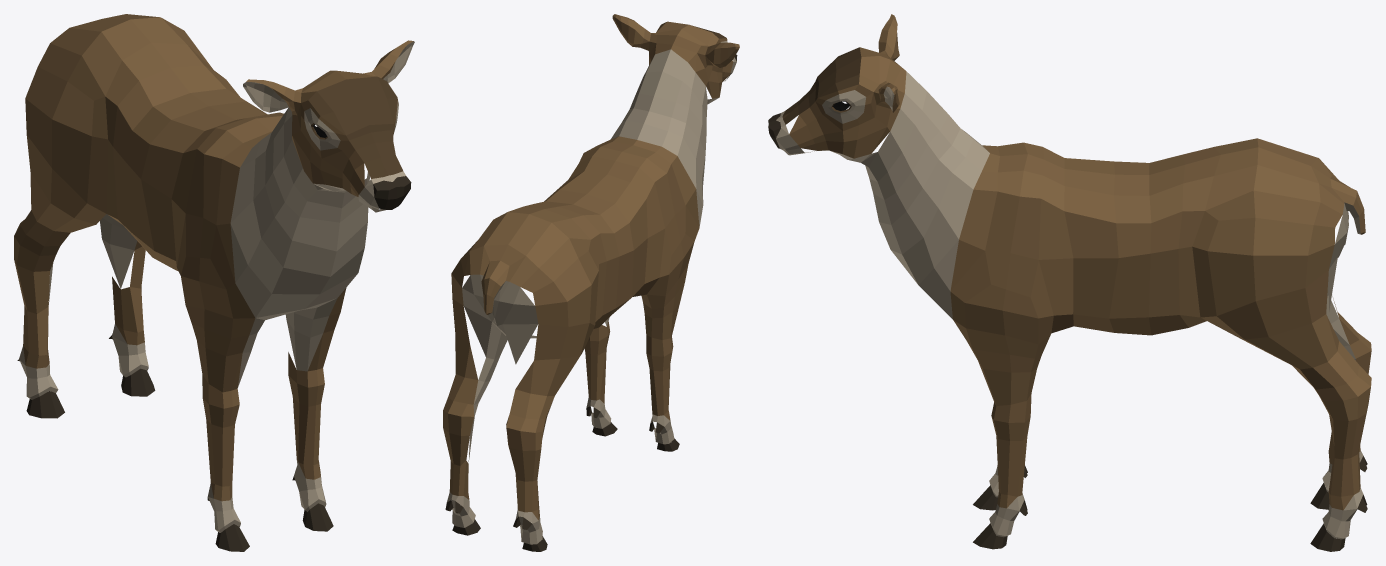
Rendered from qn_stag_statue.glb.
The picture shows the model from 3 angles, left to right: view 1: azimuth 30°, elevation 25°; view 2: azimuth 150°, elevation 25°; view 3: azimuth 270°, elevation 25°; orthographic projection. The views are drawn at different scales.
Visible parts, largest first — view 1: Stag, Stag_Horns; view 2: Stag, Stag_Horns; view 3: Stag, Stag_Horns.
Boxes of the visible parts, box(x1,y1,x2,y2) form: Stag: box(14, 14, 414, 532); Stag_Horns: box(17, 176, 411, 551); Stag: box(443, 14, 739, 544); Stag_Horns: box(445, 54, 737, 551); Stag: box(776, 14, 1371, 539); Stag_Horns: box(768, 113, 1367, 551).
Size of the model in its own units: 0.5259 by 1.5 by 1.73.
